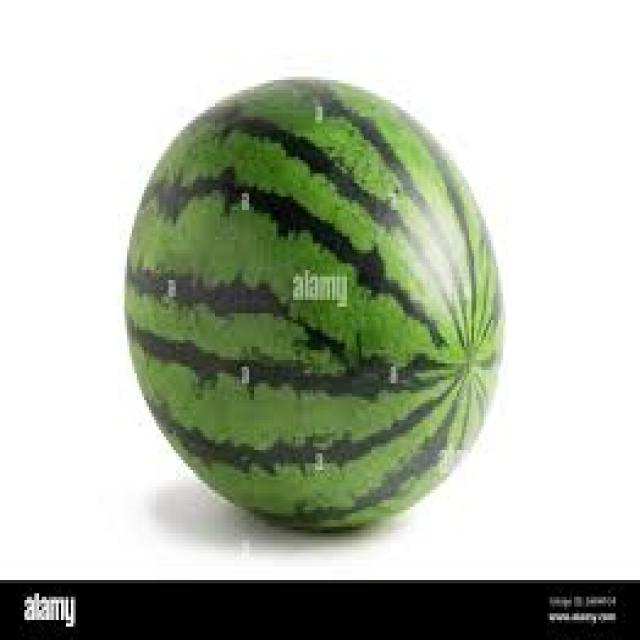watermelon: (122, 73, 506, 530)
